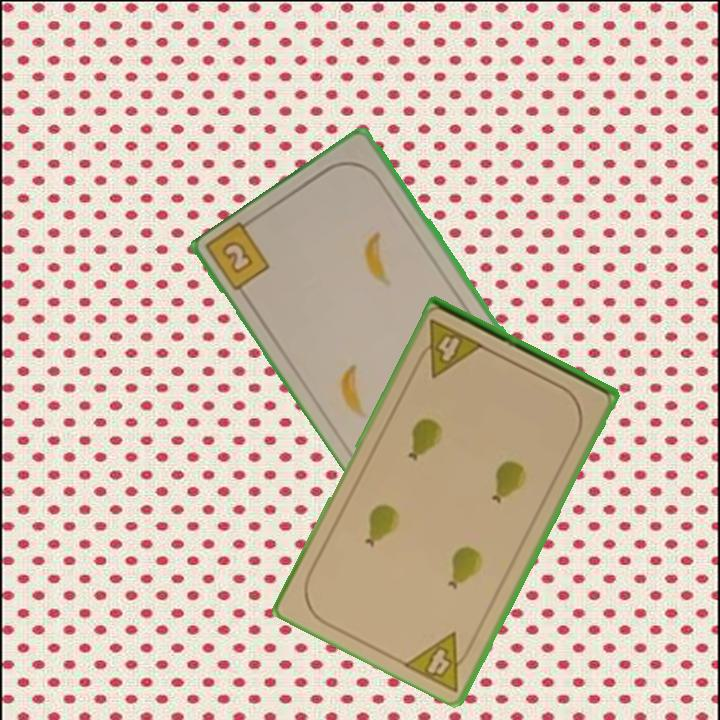2b: (218, 237, 257, 277)
4p: (400, 628, 479, 695), (411, 316, 487, 380)
